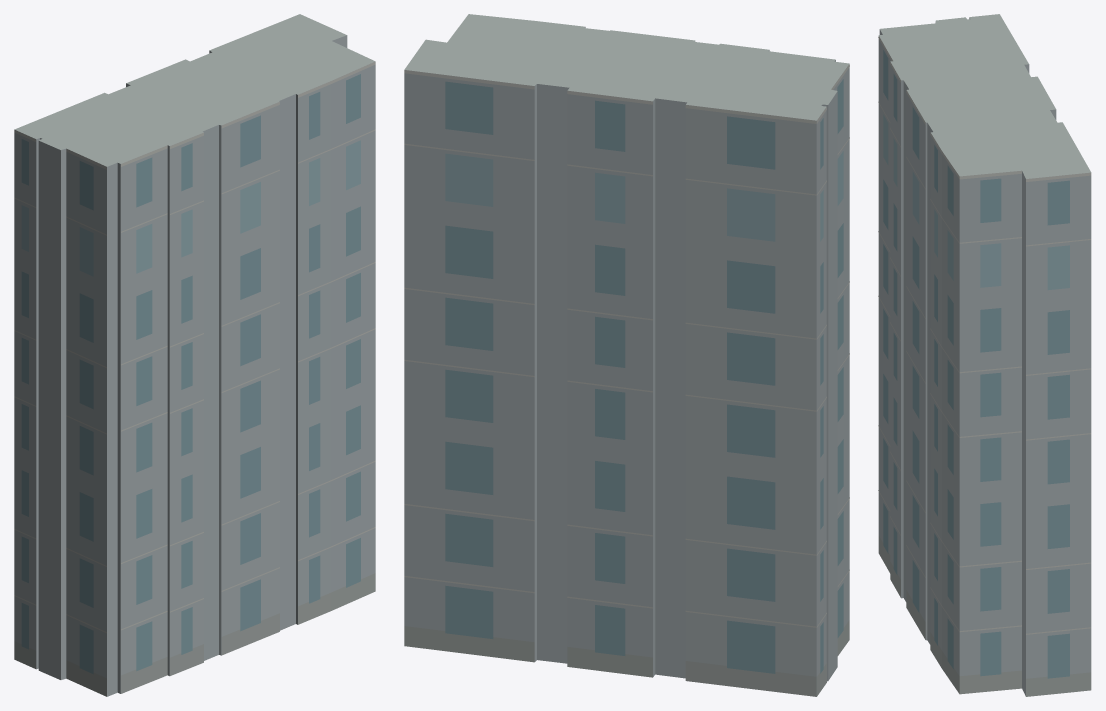
Rendered from survey-upis-32688744.glb.
3 renders of one model, left to right at view 1: azimuth 30°, elevation 25°; view 2: azimuth 150°, elevation 25°; view 3: azimuth 270°, elevation 25°, orthographic. The views are drawn at different scales.
Visible parts, largest first — view 1: survey-upis-32688744.tmp; view 2: survey-upis-32688744.tmp; view 3: survey-upis-32688744.tmp.
Part boxes in pixels (x1=…): survey-upis-32688744.tmp: x1=14, y1=14, x2=375, y2=696; survey-upis-32688744.tmp: x1=404, y1=14, x2=849, y2=696; survey-upis-32688744.tmp: x1=878, y1=14, x2=1091, y2=696.
Bounding box in the file's own units: 28.33 × 41.4 × 15.45.
